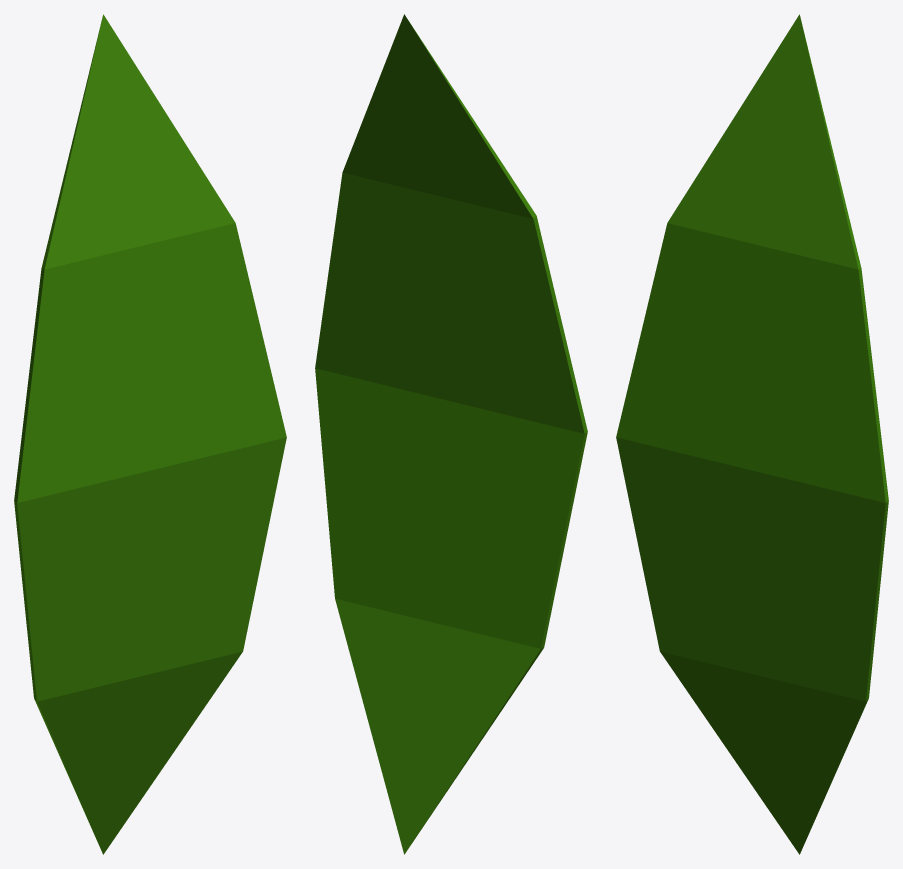
File: LeaveBent_e_01.fbx
The picture shows the model from 3 angles, left to right: view 1: azimuth 30°, elevation 25°; view 2: azimuth 150°, elevation 25°; view 3: azimuth 330°, elevation 25°; orthographic projection.
Parts seen in each view (by area): view 1: LeaveBent_e_01_LOD0; view 2: LeaveBent_e_01_LOD0; view 3: LeaveBent_e_01_LOD0.
Part boxes in pixels (x1,y1,x2,y2): LeaveBent_e_01_LOD0: [14, 14, 286, 854]; LeaveBent_e_01_LOD0: [315, 14, 587, 854]; LeaveBent_e_01_LOD0: [616, 14, 888, 854].
Size of what is drawn, in the model's own units: 1.29 by 3.84 by 0.404.
